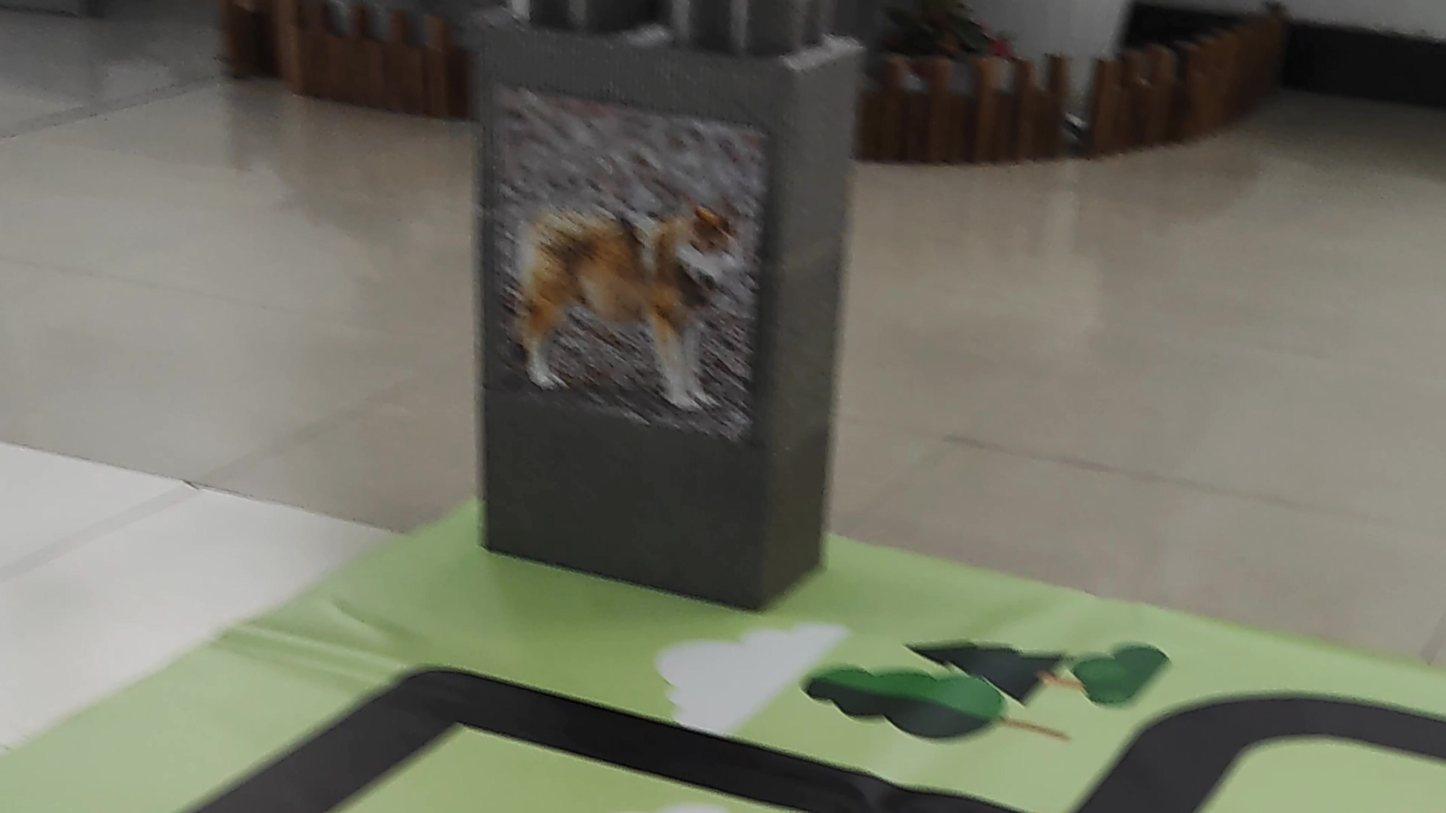wolf: (487, 167, 755, 429)
